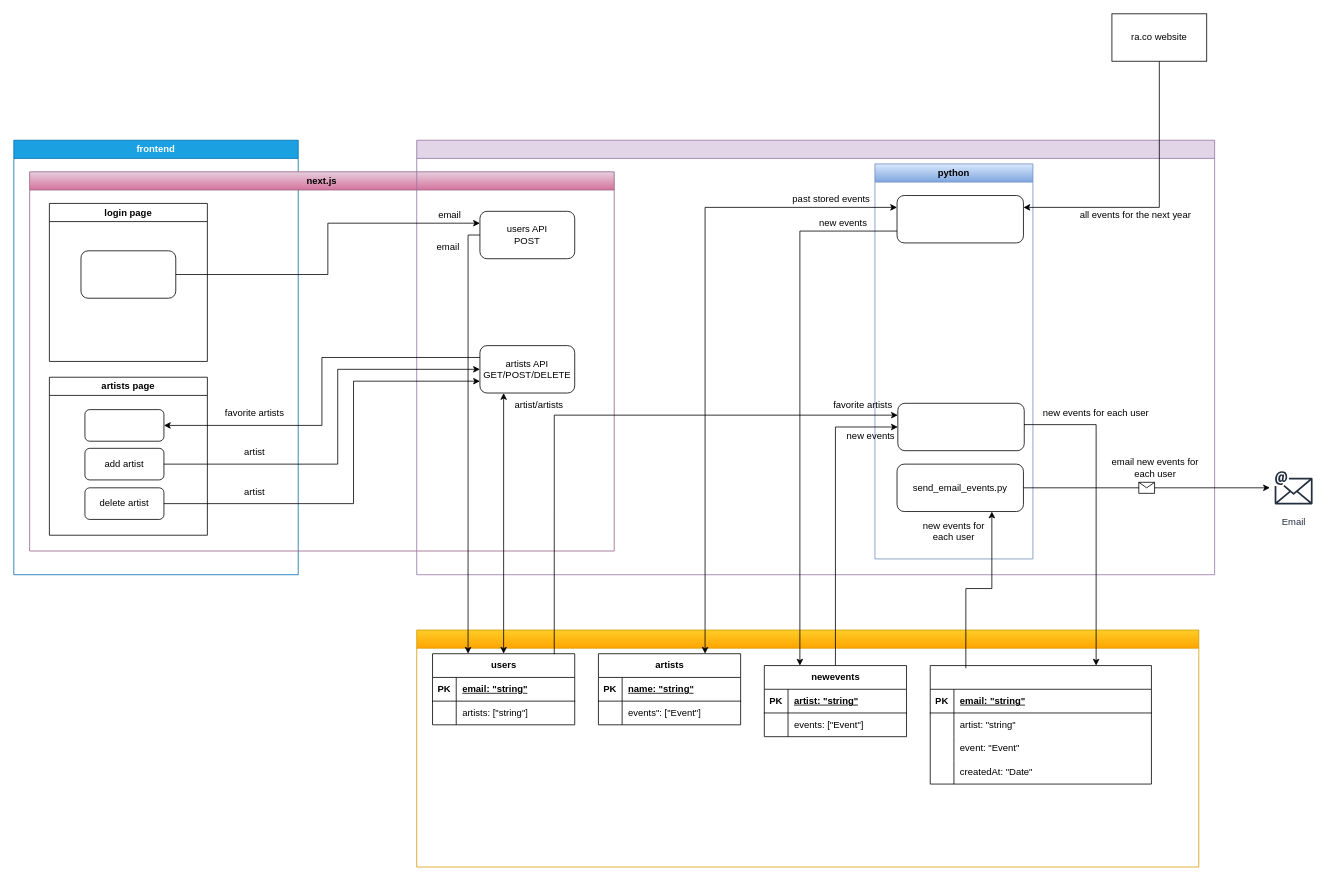
Image size: 1331x881. Some labels were removed from this diagram. The shapes that lost their labels are listed below. From the top down, each one's box as (x1, y1, x2, y2) in pixels, then its label:
(896, 195, 1023, 243): update_events.py
(80, 250, 176, 298): email login/signup
(416, 139, 1215, 575): backend
(84, 409, 164, 441): artists list
(897, 403, 1024, 451): generate_email_events.py
(929, 665, 1151, 784): emailevents
(416, 629, 1199, 867): database
